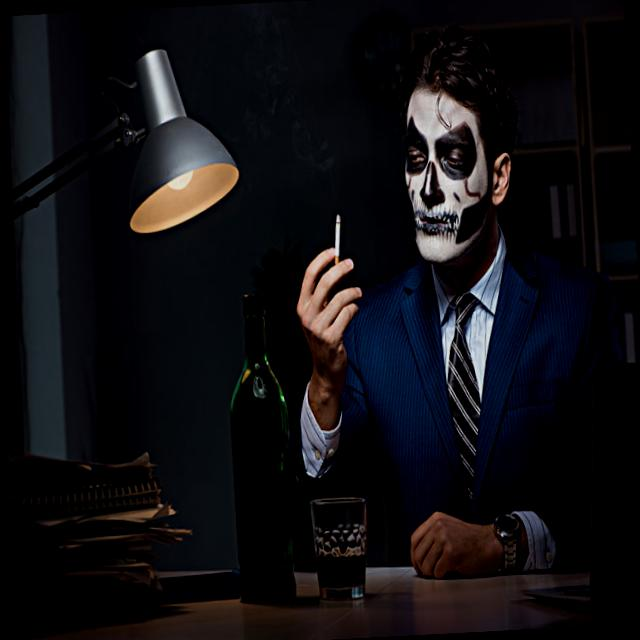cigarette: (332, 212, 348, 265)
